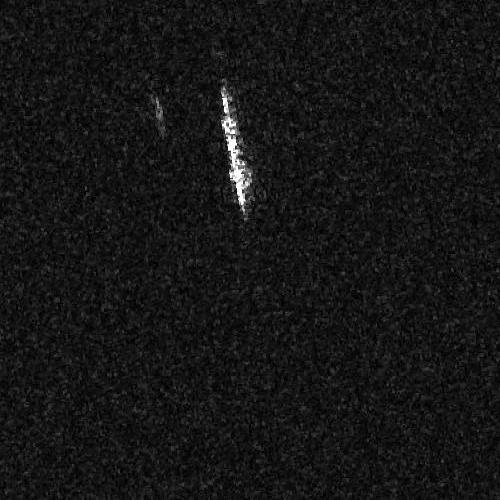ship: (218, 82, 253, 215)
